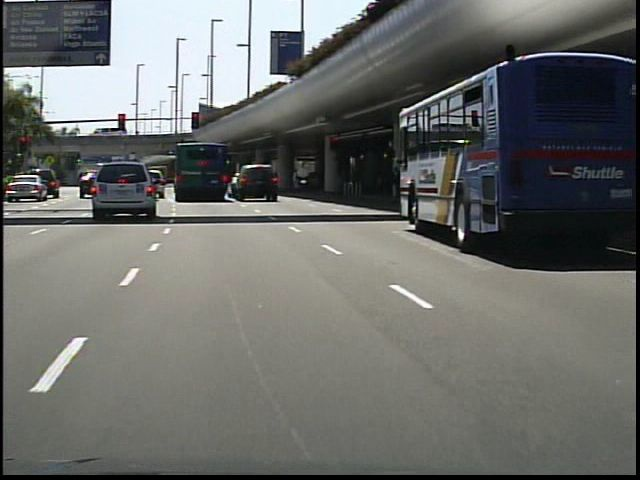person: (288, 161, 308, 198)
